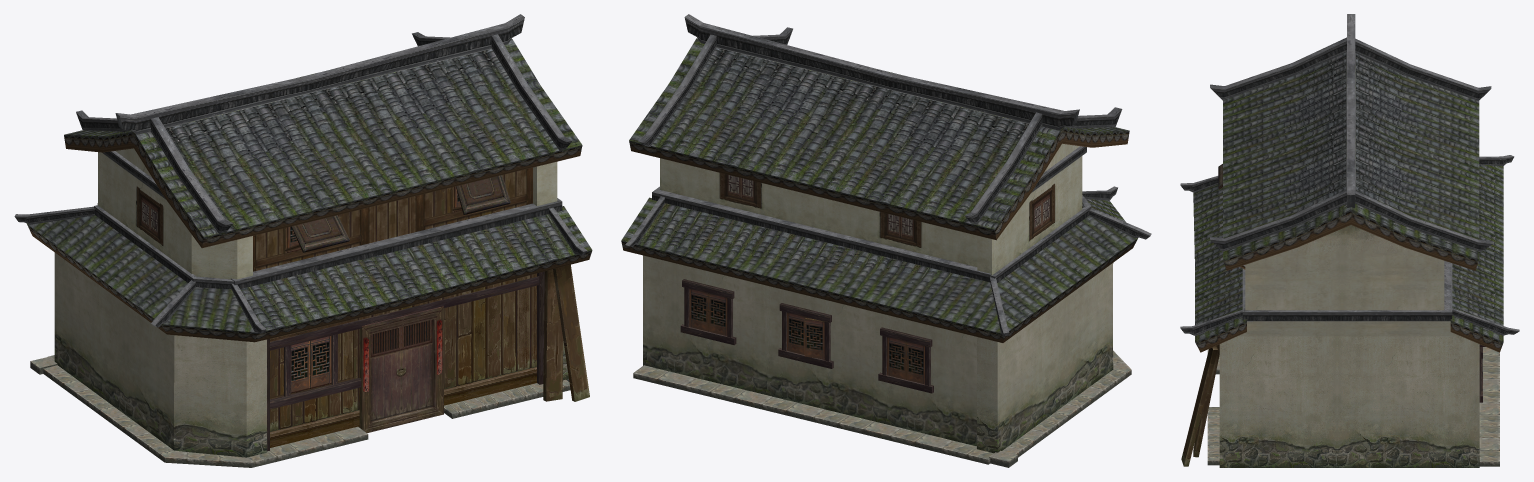
The model's file is minju_dw_22.fbx.
3 views of the same model, side by side, from view 1: azimuth 30°, elevation 25°; view 2: azimuth 150°, elevation 25°; view 3: azimuth 270°, elevation 25° (orthographic). The views are drawn at different scales.
Parts seen in each view (by area): view 1: minju_dw_22; view 2: minju_dw_22; view 3: minju_dw_22.
Boxes of the visible parts, x1=… form: minju_dw_22: x1=14, y1=14, x2=592, y2=467; minju_dw_22: x1=621, y1=14, x2=1151, y2=467; minju_dw_22: x1=1180, y1=14, x2=1519, y2=467.
Size of what is drawn, in the model's own units: 1269 by 883 by 956.
